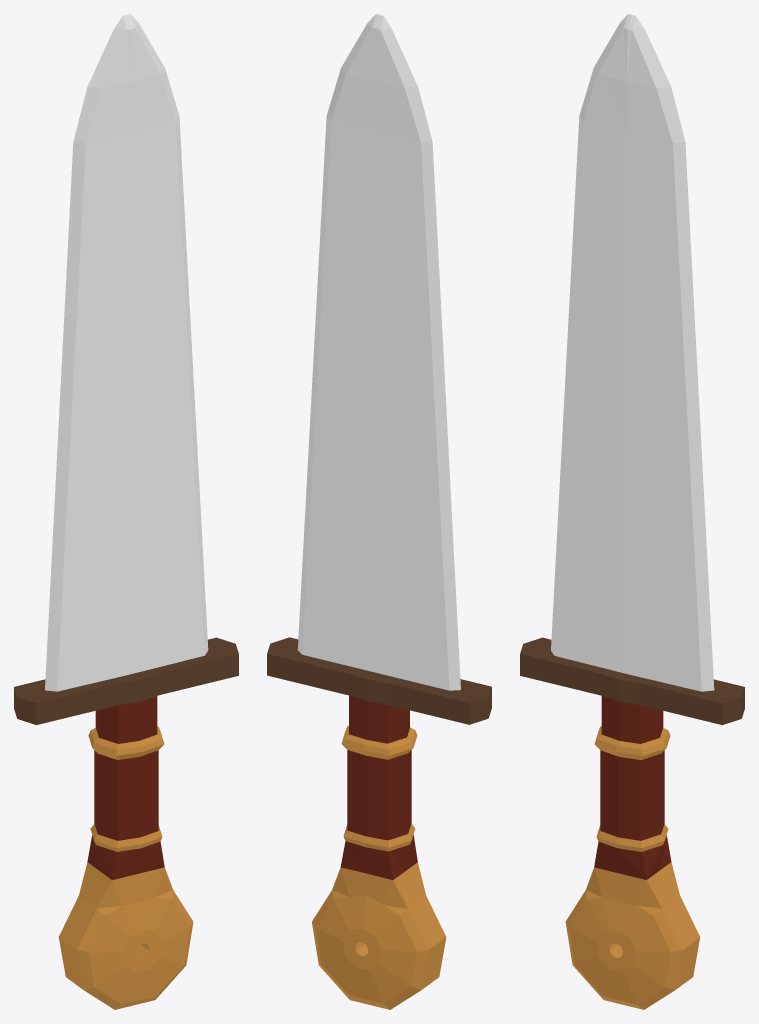
File: ShortSword.glb
3 renders of one model, left to right at view 1: azimuth 30°, elevation 25°; view 2: azimuth 150°, elevation 25°; view 3: azimuth 330°, elevation 25°, orthographic.
Parts seen in each view (by area): view 1: ShortSword; view 2: ShortSword; view 3: ShortSword.
Part boxes in pixels (x1,y1,x2,y2): ShortSword: [14, 14, 238, 1009]; ShortSword: [267, 14, 491, 1009]; ShortSword: [520, 14, 744, 1009].
Size of the model in its own units: 0.8019 by 3.45 by 0.216.
